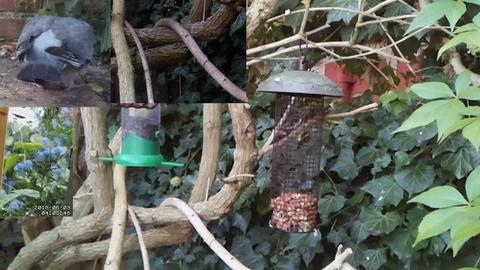wood pigeon: (15, 15, 96, 92)
